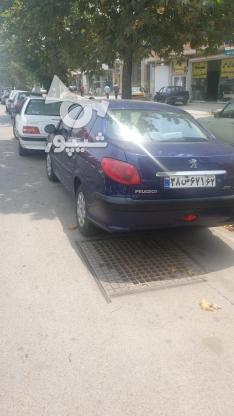car: (163, 172, 217, 190)
